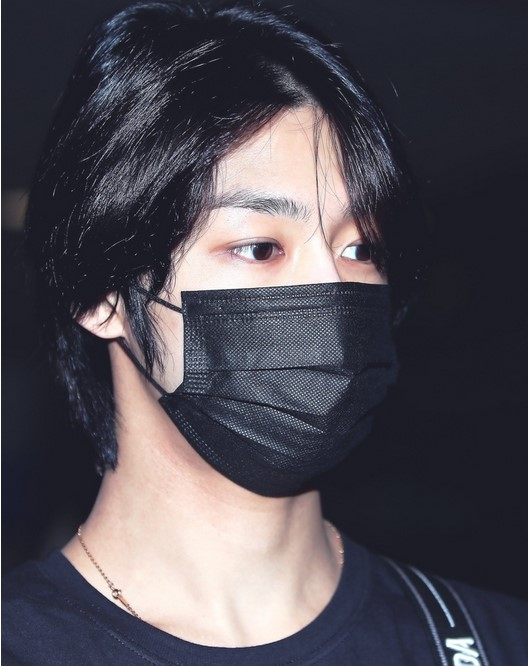face_with_mask: (72, 9, 429, 501)
